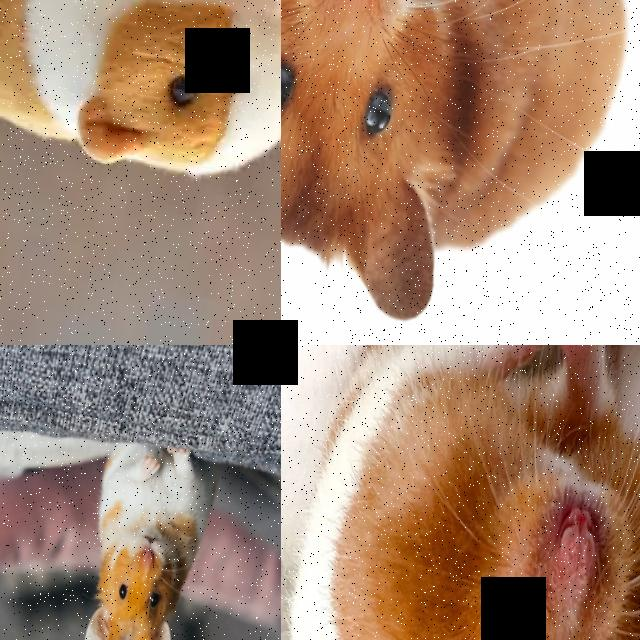hamster: (281, 0, 640, 345), (281, 345, 640, 640), (0, 0, 281, 198), (70, 439, 221, 640)
